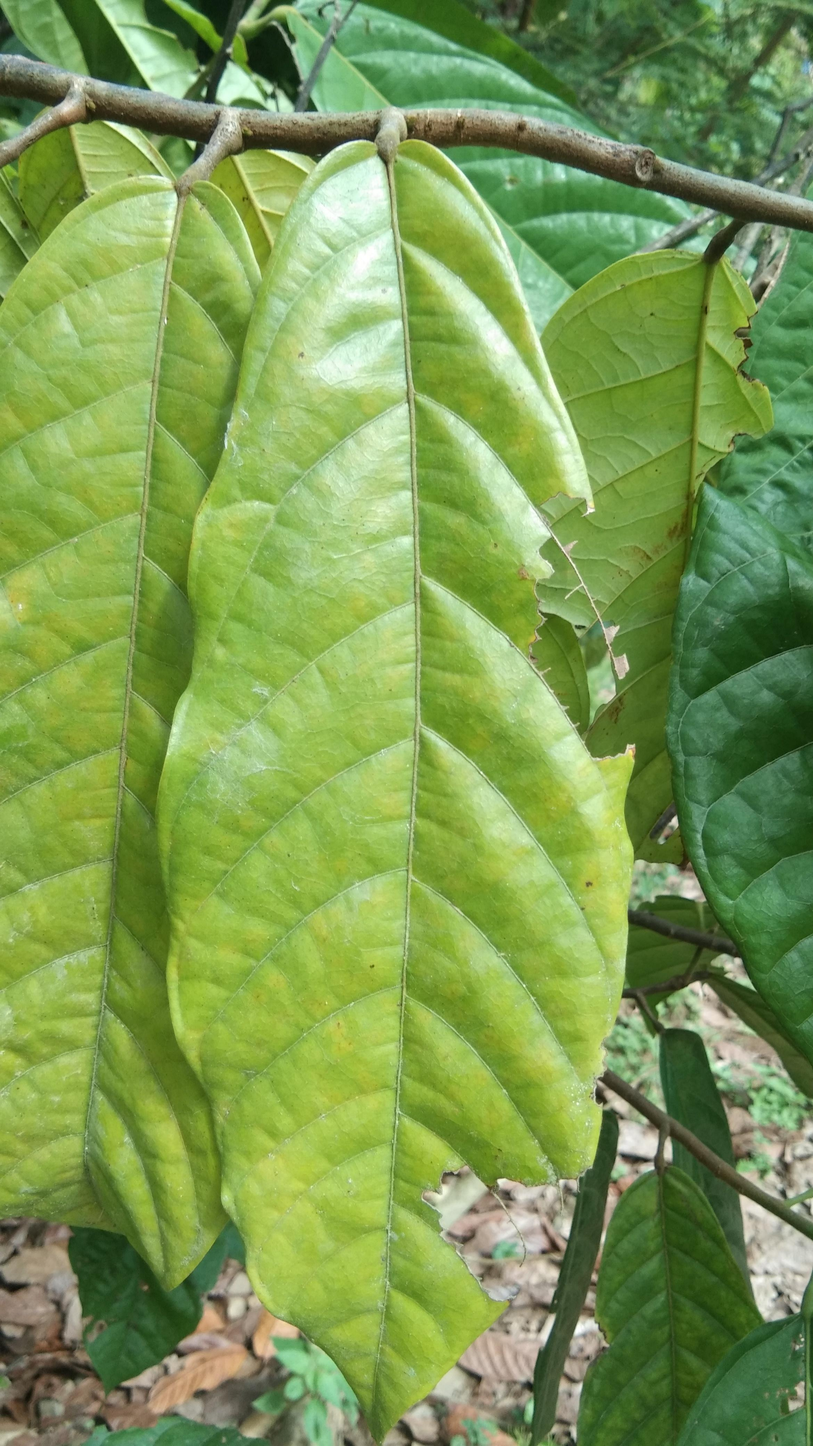deficiencia_potasio: (163, 132, 611, 1418)
